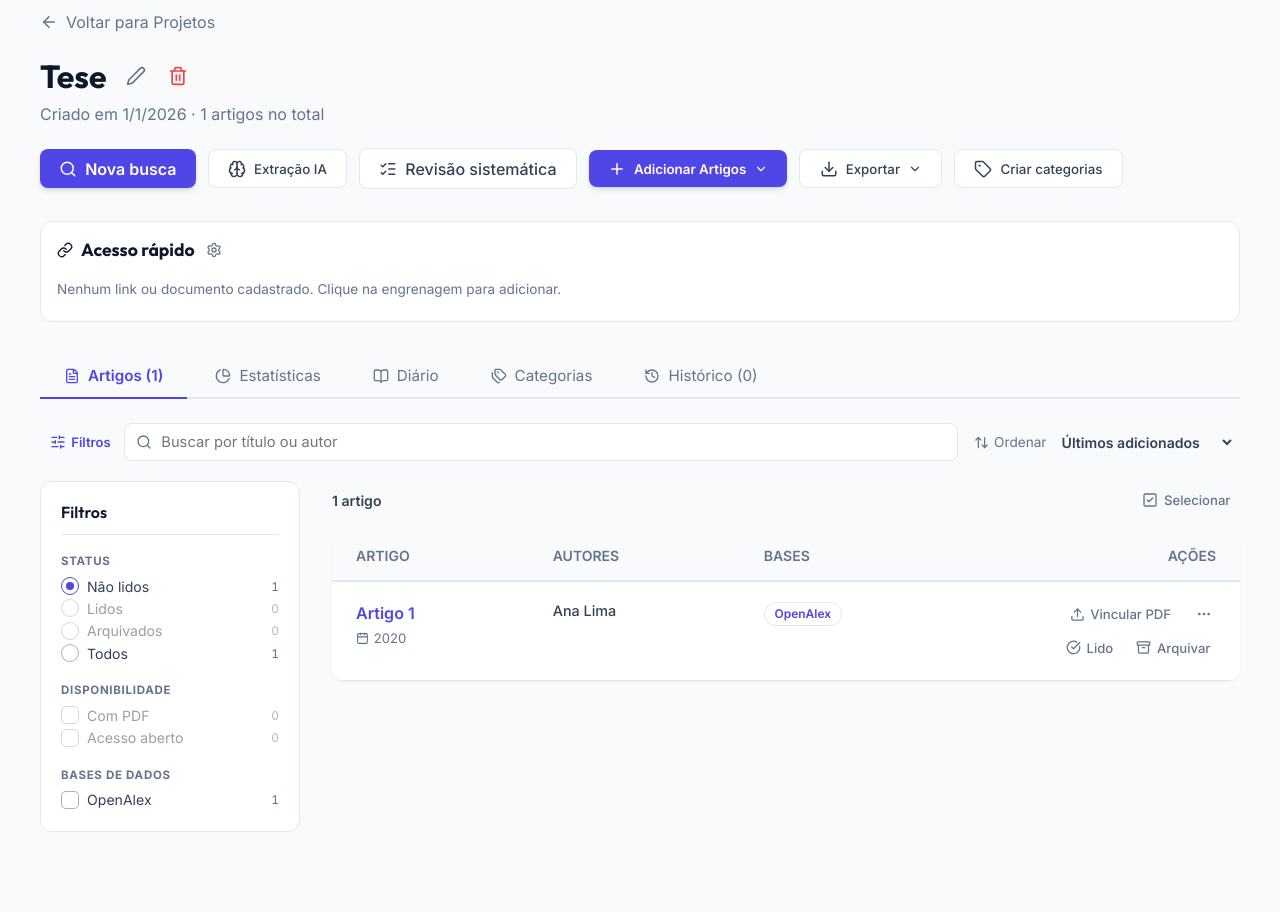
it: ProjectDetailsPage tabs › switches between tab contents
Click the button with test id "tab-overview" at (268, 377), box [191,354,345,399]
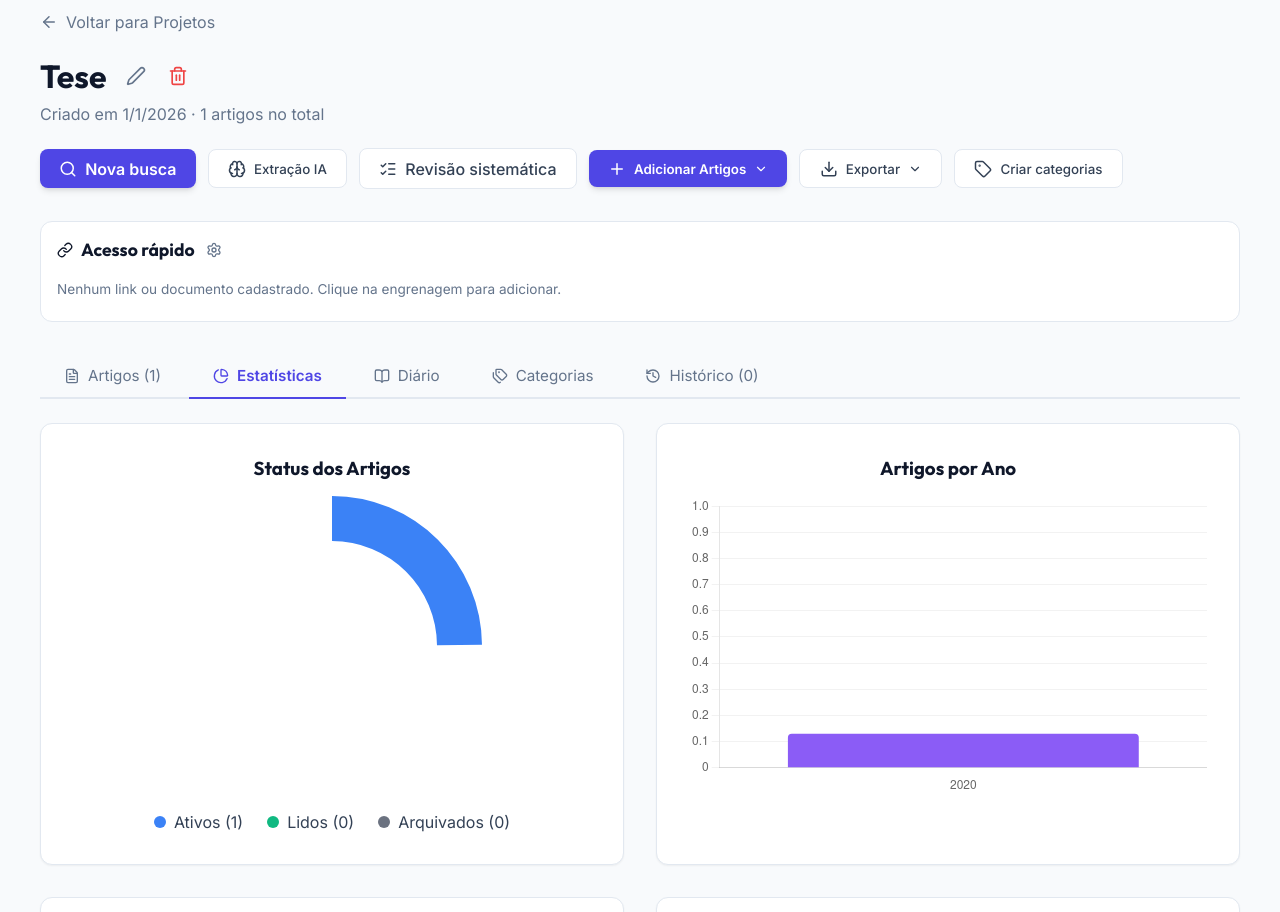
Now the heading "Status dos Artigos" is shown, box [254,456,410,480]
Now the table with test id "main-articles-table" is gone
Click the button with test id "tab-diary" at (407, 377), box [350,354,464,399]
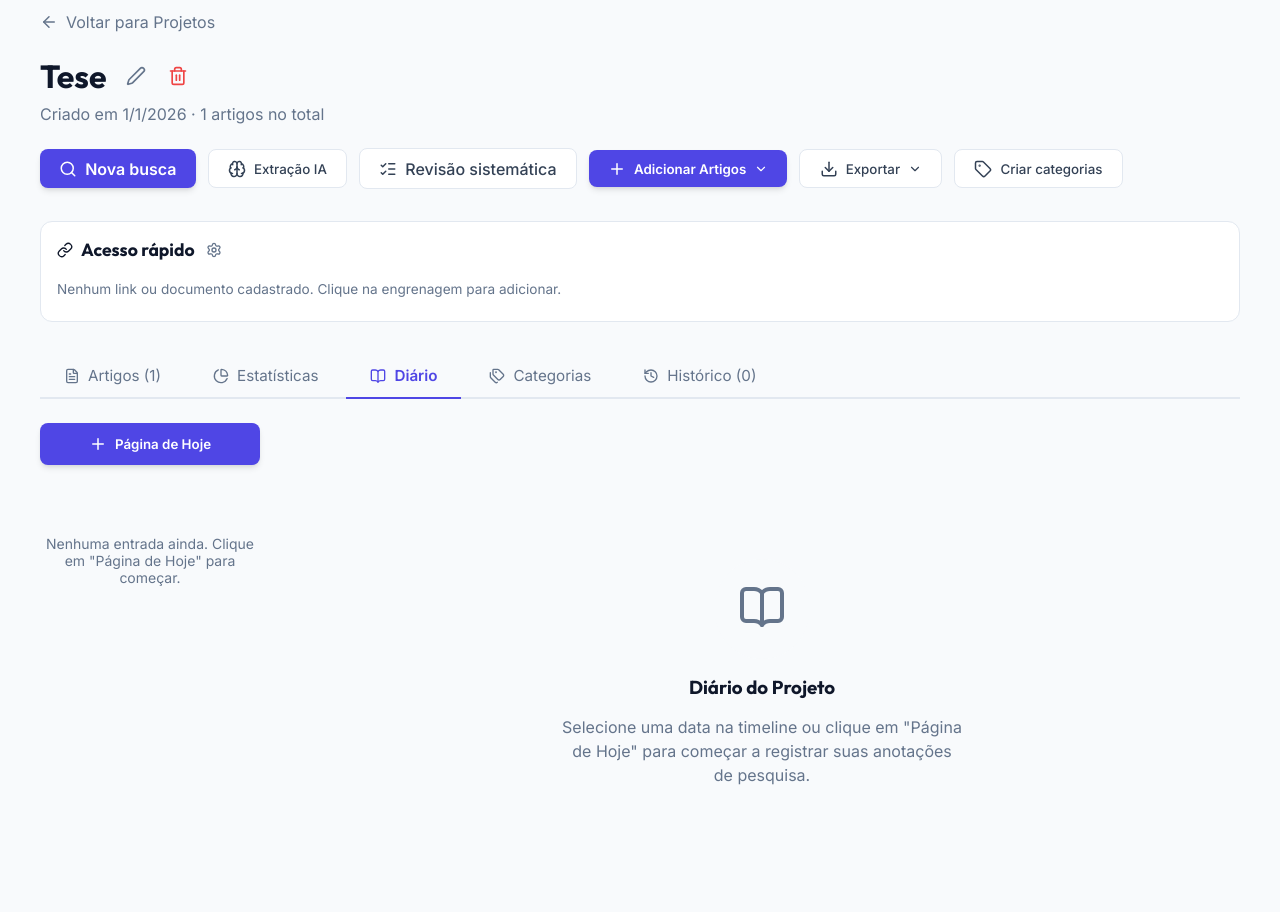
Now the button "Página de Hoje" is shown, box [40,423,260,465]
Click the button with test id "tab-articles" at (112, 377), box [40,354,185,399]
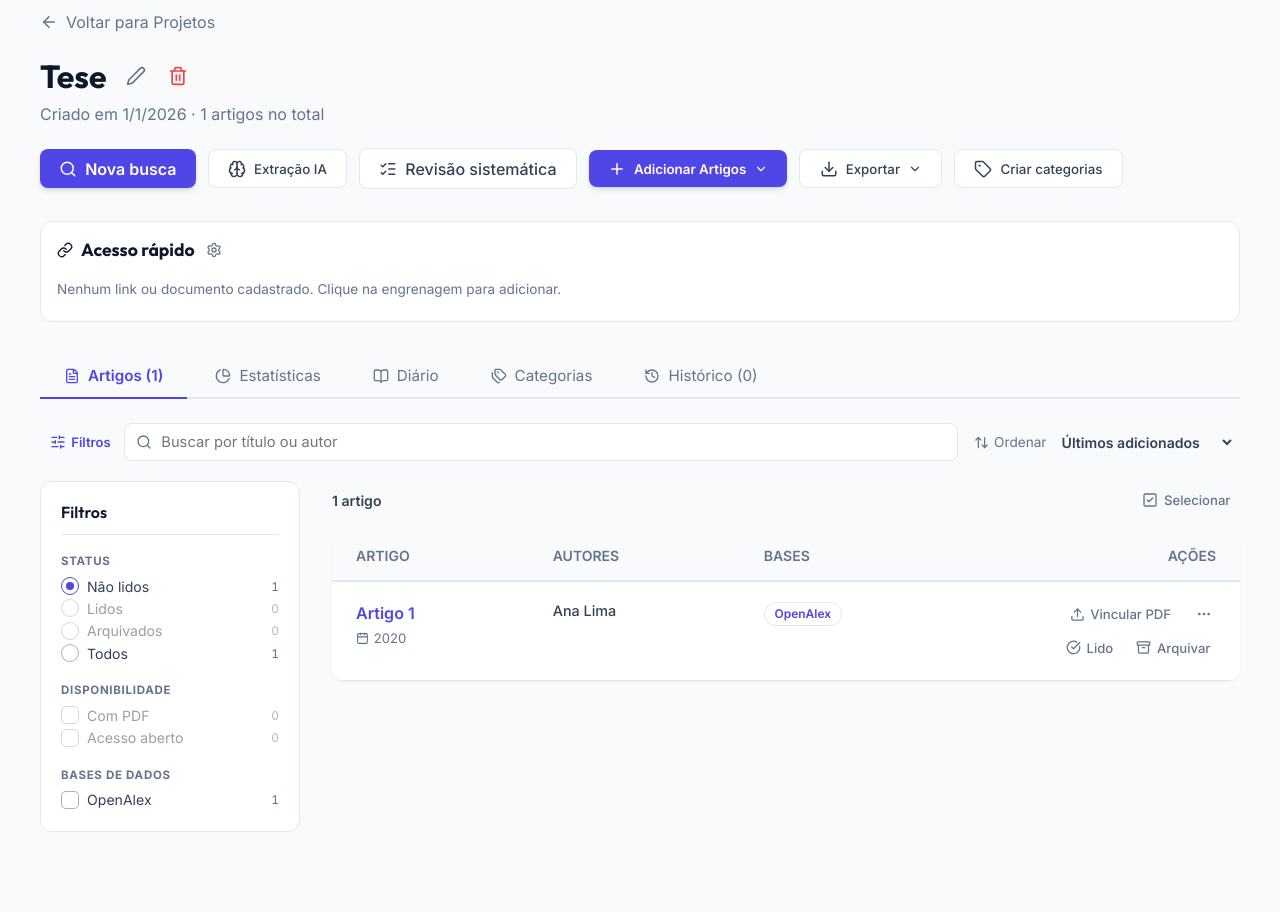
Now the table with test id "main-articles-table" is shown, box [332,531,1240,681]
